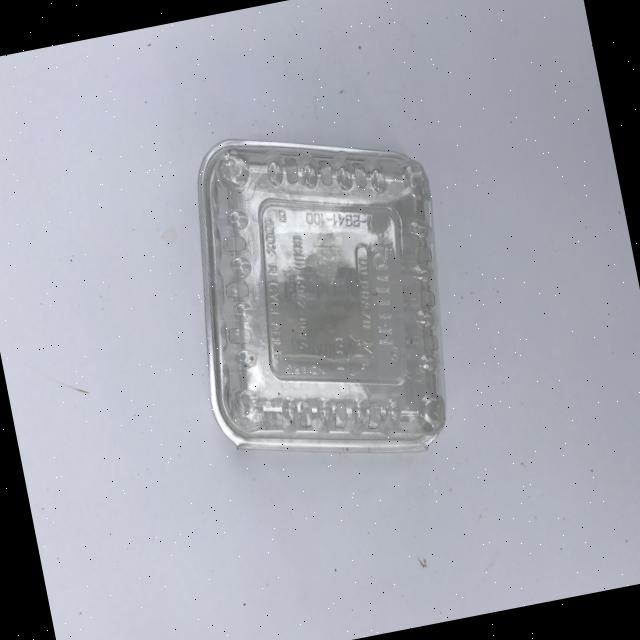plastic: (162, 102, 479, 490)
